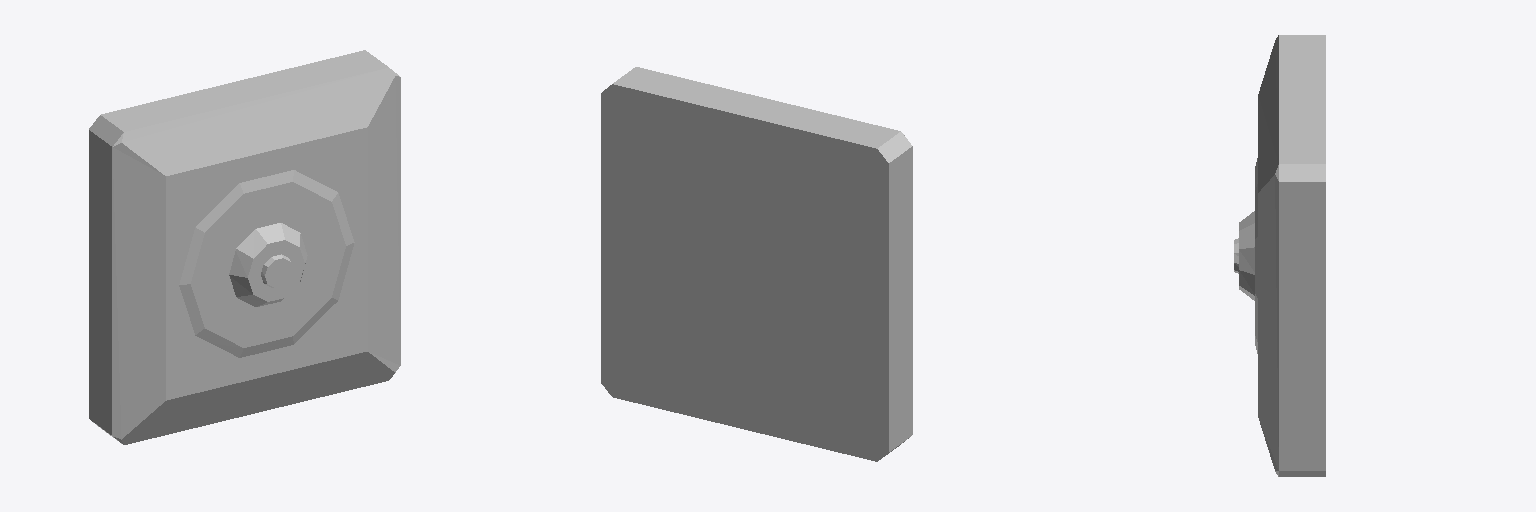
The model's file is 微型摄像头.obj.
3 renders of one model, left to right at view 1: azimuth 30°, elevation 25°; view 2: azimuth 150°, elevation 25°; view 3: azimuth 270°, elevation 25°, orthographic.
Visible parts, largest first — view 1: Box1823, Cylinder048, Cylinder049, Cylinder050; view 2: Box1823; view 3: Box1823, Cylinder049, Cylinder048.
Part boxes in pixels (bbox=[...]): Box1823: bbox=[89, 50, 400, 444]; Cylinder048: bbox=[179, 170, 354, 357]; Cylinder049: bbox=[229, 223, 307, 306]; Cylinder050: bbox=[261, 254, 293, 287]; Box1823: bbox=[601, 67, 912, 461]; Box1823: bbox=[1258, 35, 1325, 476]; Cylinder049: bbox=[1239, 211, 1254, 300]; Cylinder048: bbox=[1255, 158, 1257, 353].
Size of the model in its own units: 25 by 25.97 by 6.98.